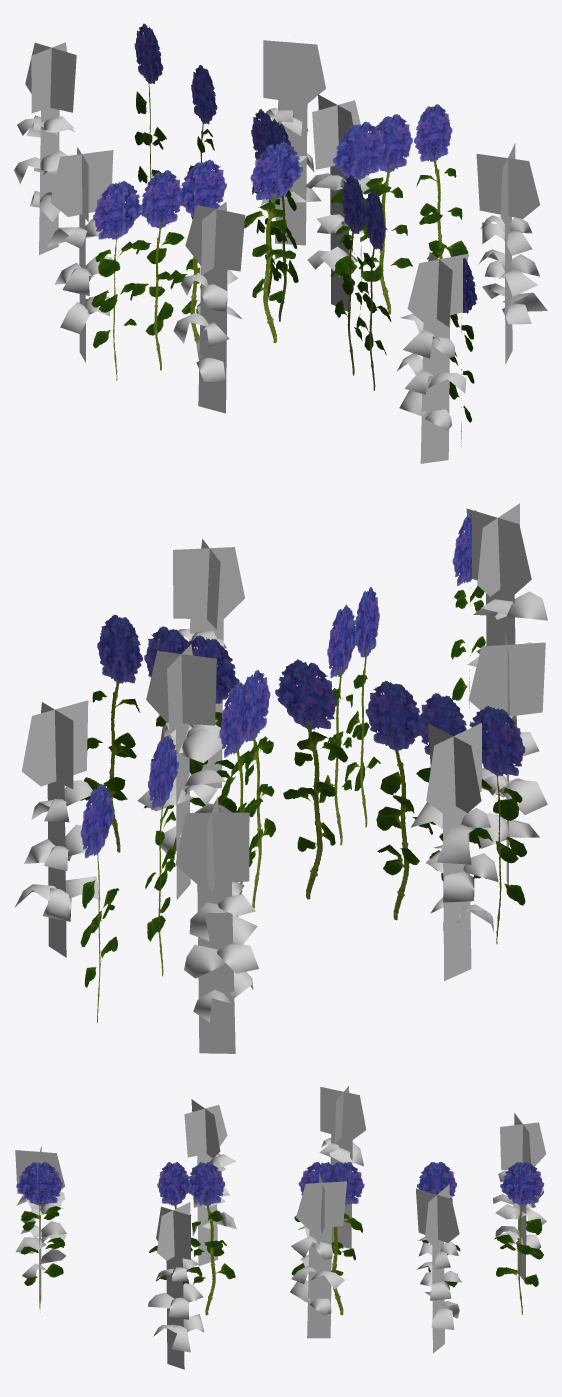
The model's file is Grass7.fbx.
3 views of the same model, one above another, from view 1: azimuth 30°, elevation 25°; view 2: azimuth 150°, elevation 25°; view 3: azimuth 270°, elevation 25° (orthographic). The views are drawn at different scales.
Visible parts, largest first — view 1: LOD0, Billboard; view 2: LOD0, Billboard; view 3: LOD0, Billboard.
Boxes of the visible parts, box(x1,y1,x2,y2) form: LOD0: box(14, 40, 547, 463); Billboard: box(91, 23, 477, 446); LOD0: box(14, 503, 547, 1053); Billboard: box(80, 510, 526, 1023); LOD0: box(15, 1086, 546, 1369); Billboard: box(16, 1162, 544, 1315).
Size of what is drawn, in the model's own units: 239 by 123 by 374.
